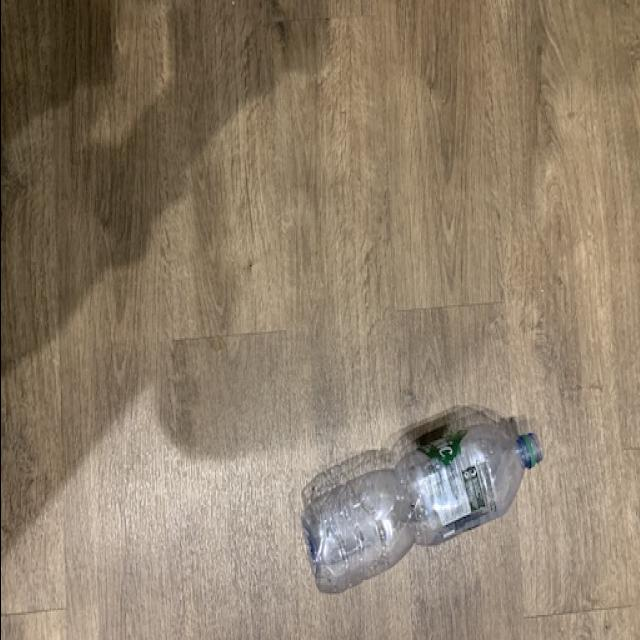litter: (296, 414, 544, 598)
